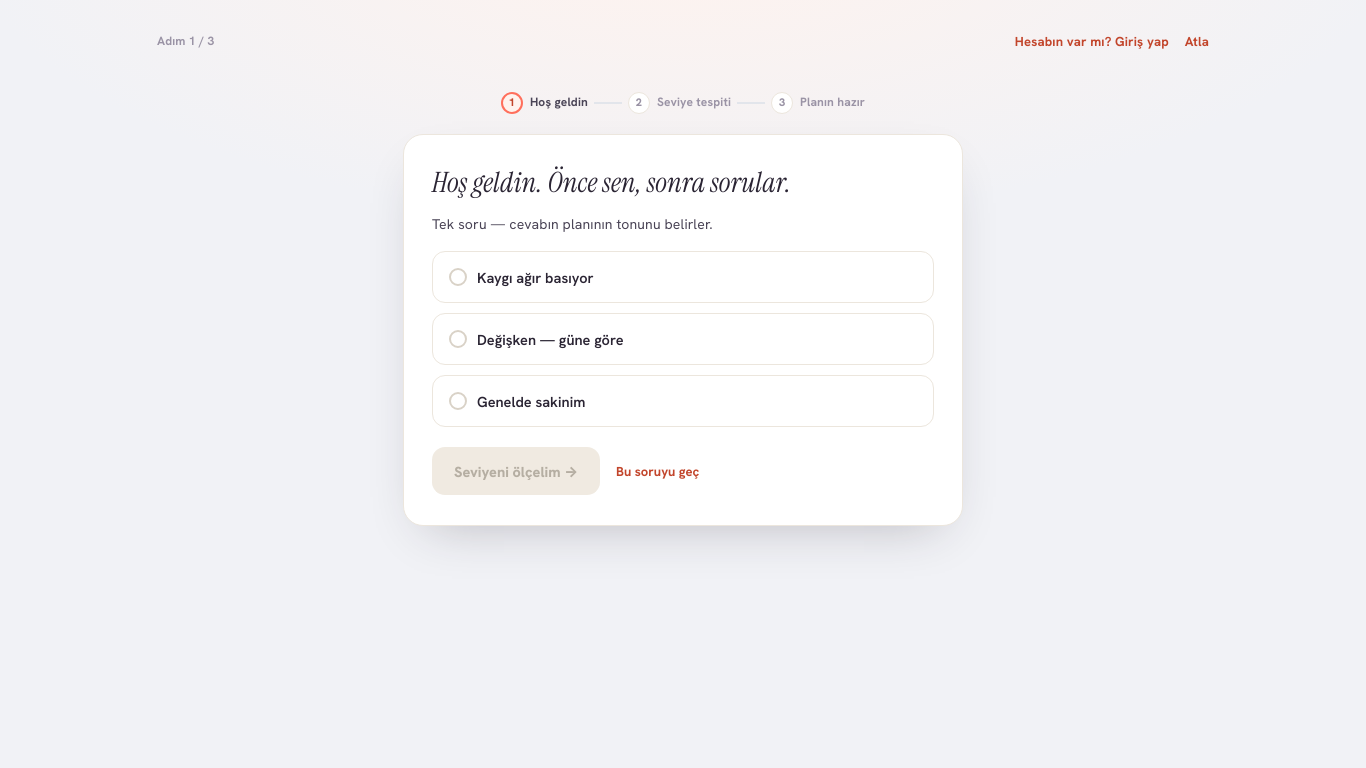
OnboardingPage › "Bu soruyu geç" doğrudan ölçüme geçer
Click the button "Bu soruyu geç": (658, 472) [616,450,699,494]
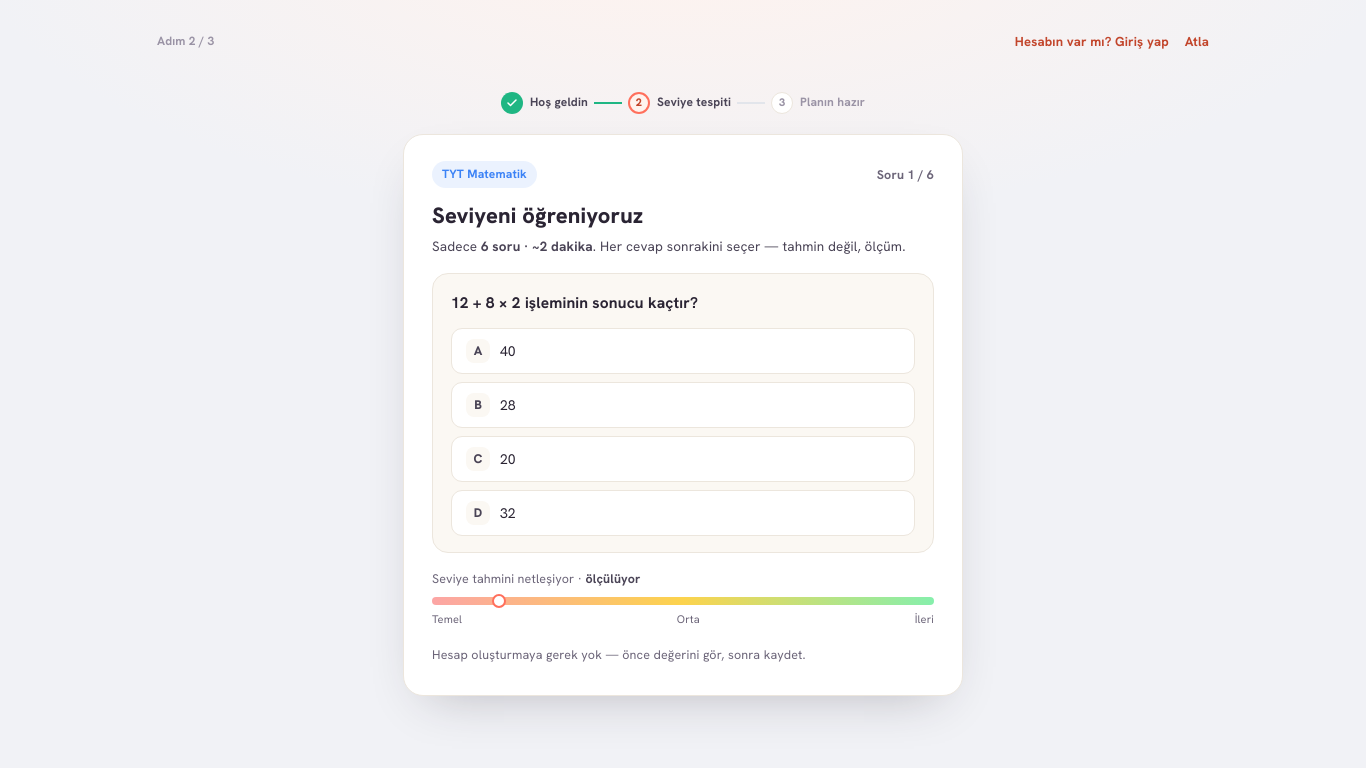
Result: the text "Soru 1 / 6" is shown at [877,165,934,185]
